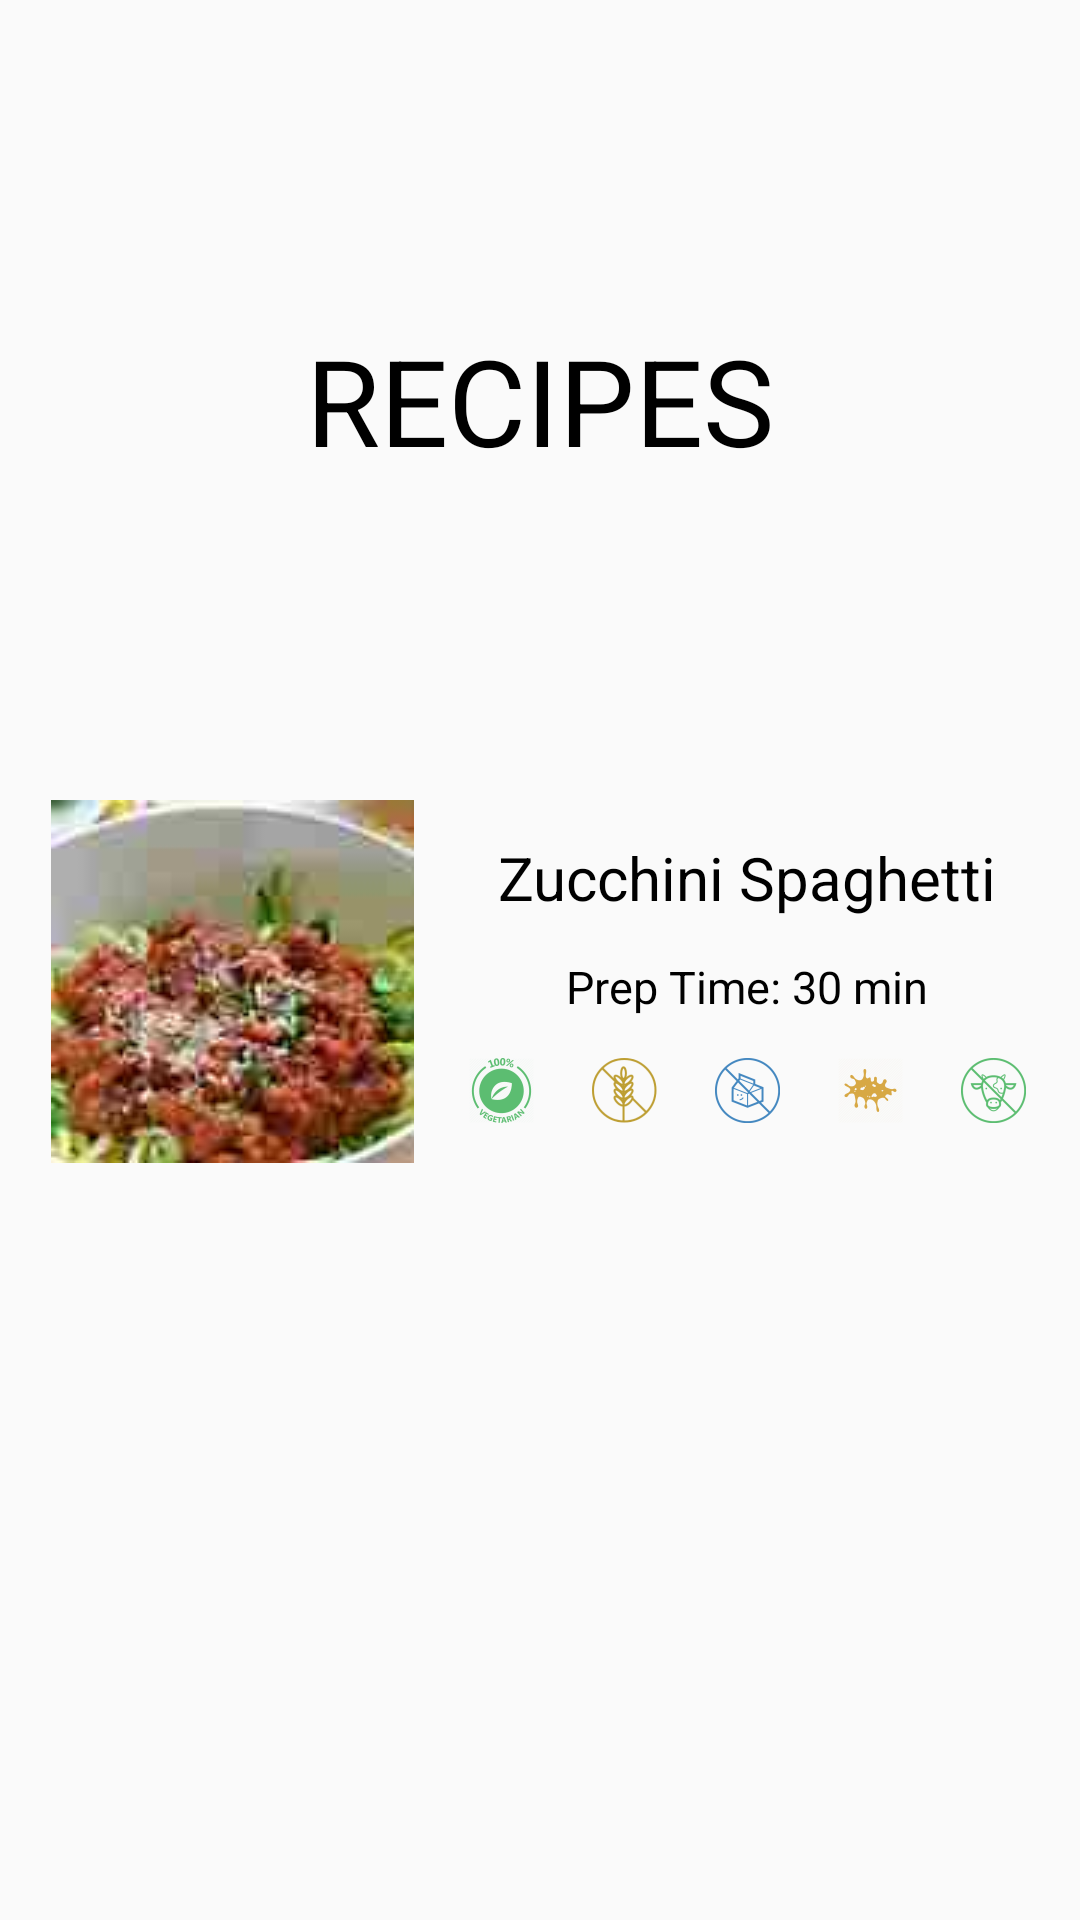

Named icons in this screenshot (1080 × 1920) and their centers, (x,y):
dairy free: (747,1090)
gluten free: (624,1090)
vegan: (993,1090)
